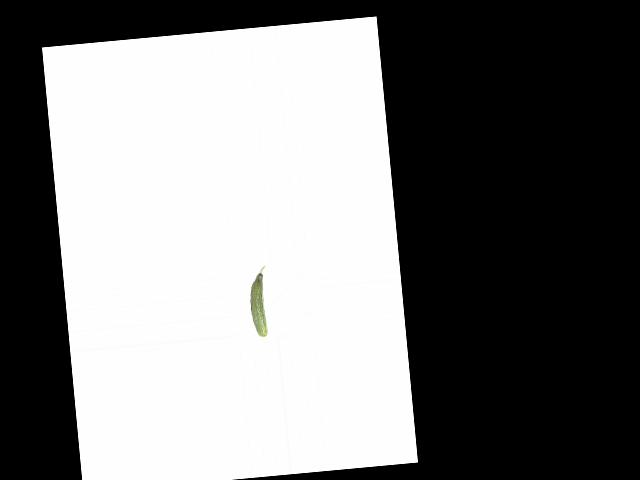cucumber: (247, 265, 271, 337)
